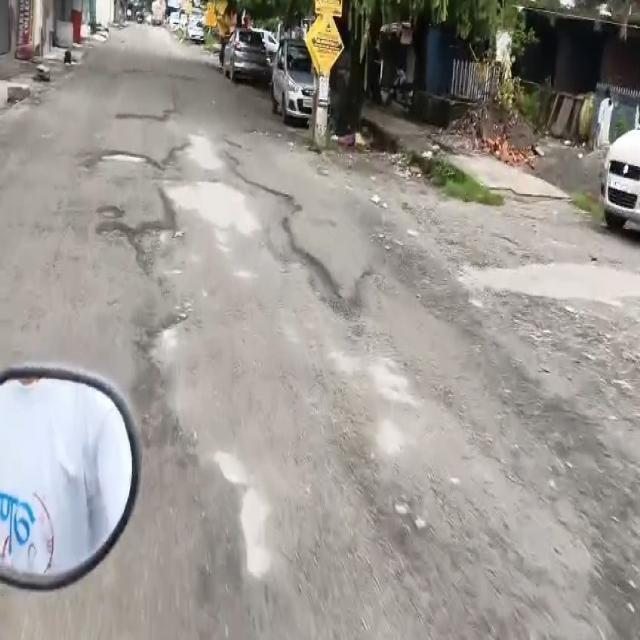road-pothole: (132, 258, 453, 639)
